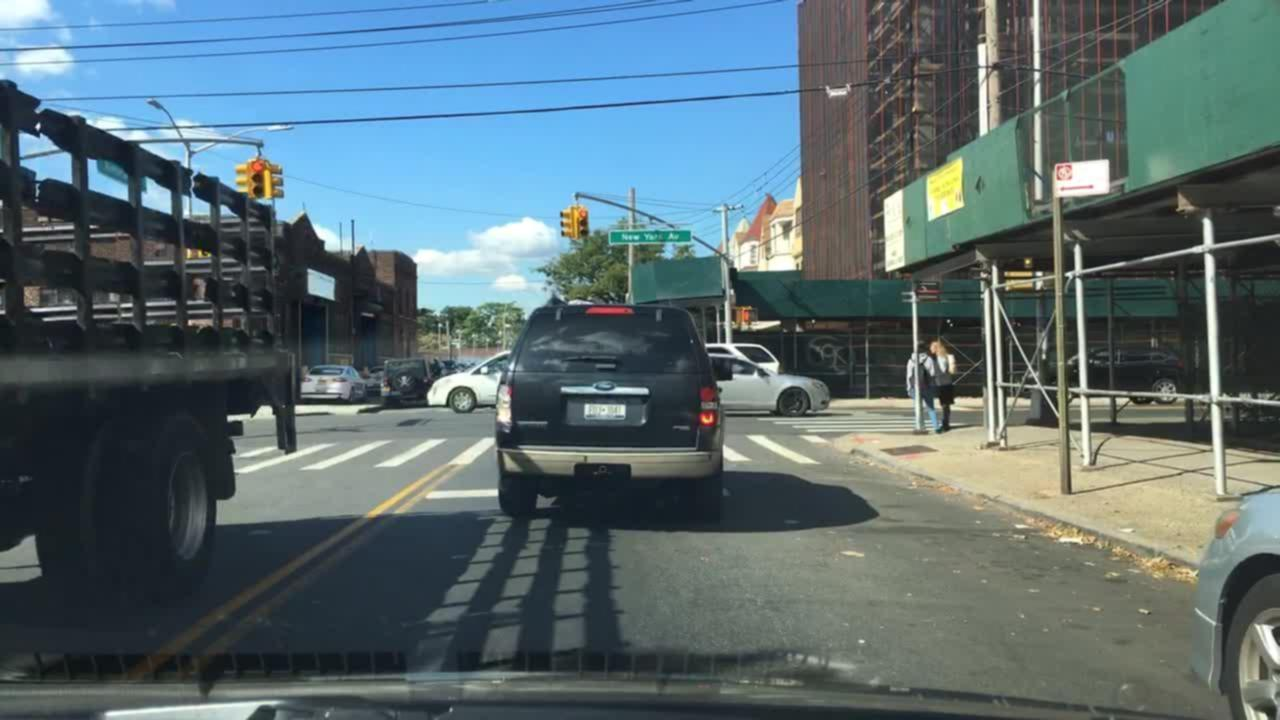ford: (594, 380, 617, 394)
